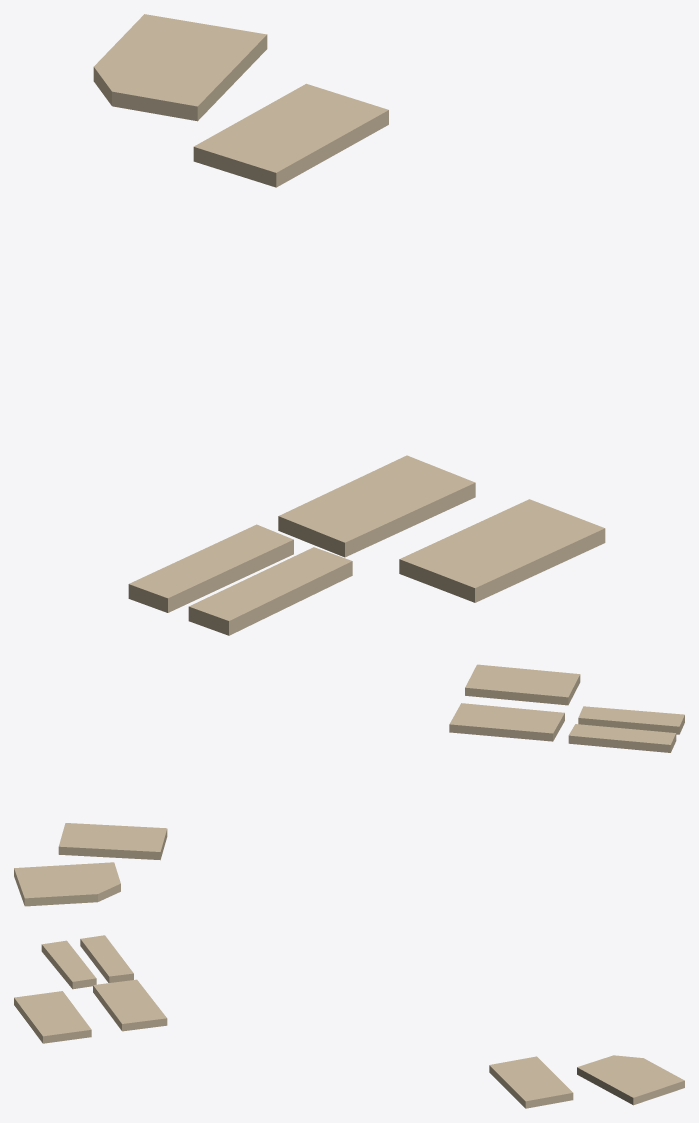
The model's file is -16_-3-estimated-coarse.glb.
The picture shows the model from 3 angles, top to bottom: view 1: azimuth 30°, elevation 25°; view 2: azimuth 150°, elevation 25°; view 3: azimuth 270°, elevation 25°; orthographic projection. The views are drawn at different scales.
Bounding box in the file's own units: 580 × 12 × 990.
